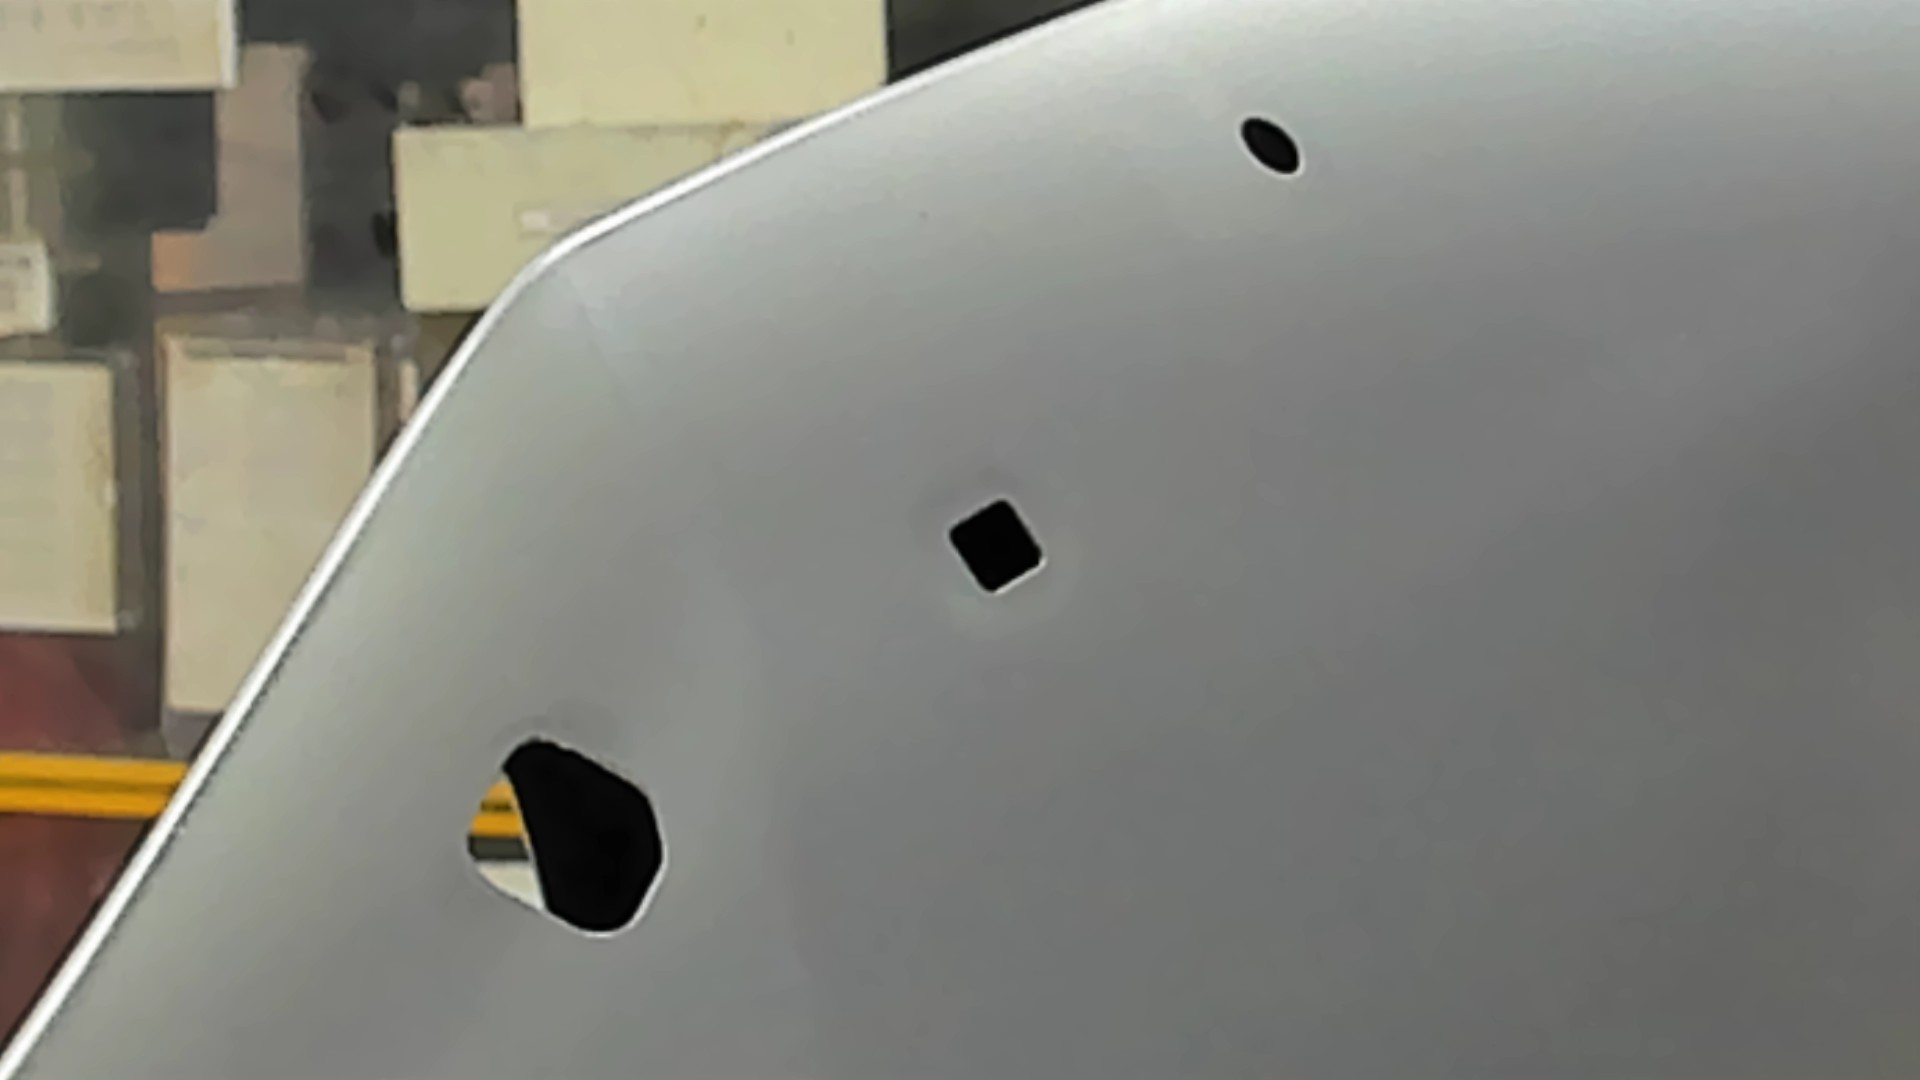chico: (1236, 111, 1305, 177)
grande: (462, 733, 673, 942)
mediano: (944, 493, 1050, 596)
